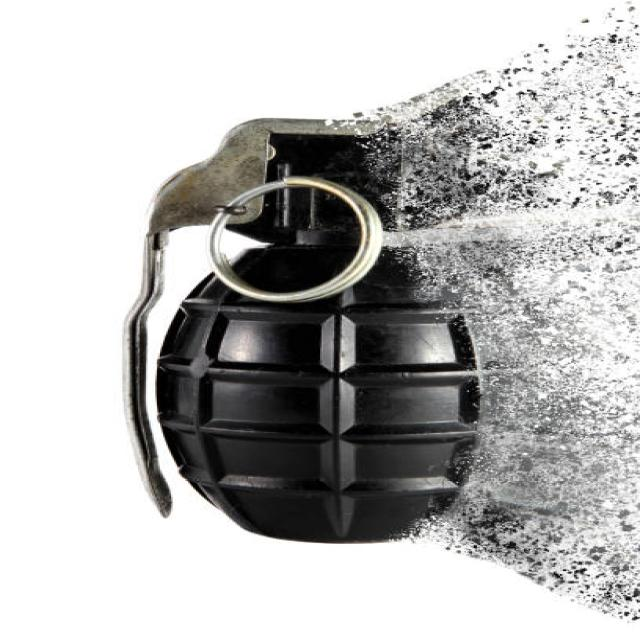grenade: (98, 110, 509, 551)
